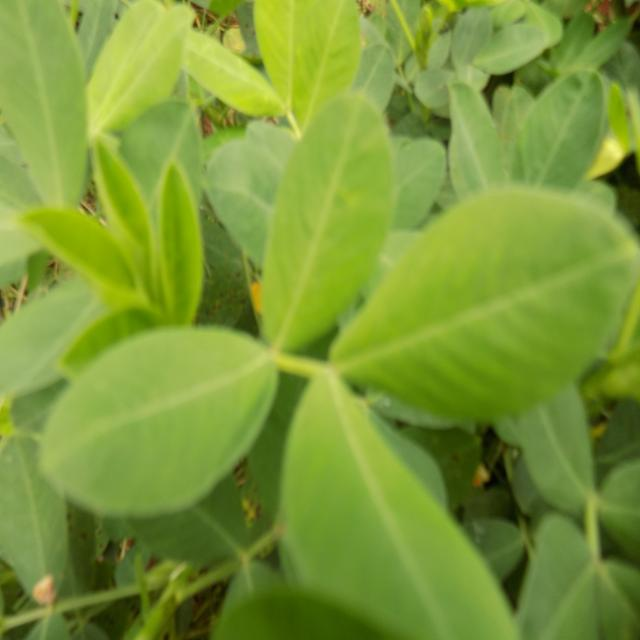Ground nut_healthy: (332, 182, 640, 420), (276, 368, 527, 640), (35, 330, 287, 514), (258, 85, 401, 377), (18, 194, 155, 316), (76, 2, 194, 132), (501, 75, 605, 197), (158, 161, 213, 324)
